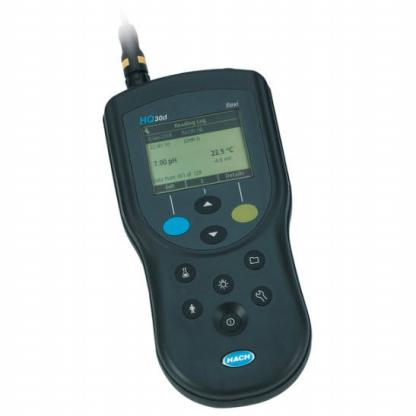Displays: (142, 108, 254, 195)
